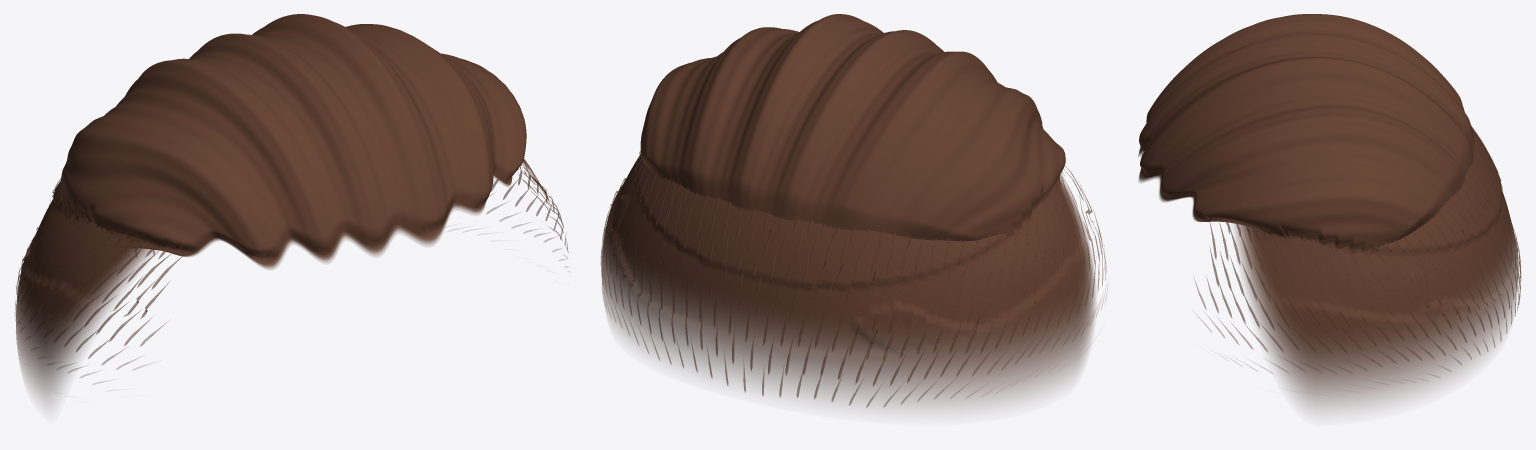
Rendered from Masculine-sidepart-headband259-hair.glb.
The picture shows the model from 3 angles, left to right: view 1: azimuth 30°, elevation 25°; view 2: azimuth 150°, elevation 25°; view 3: azimuth 270°, elevation 25°; orthographic projection. The views are drawn at different scales.
Parts seen in each view (by area): view 1: 226 hair / Hair259 / textured forward Crop, 226 hair / Hair258 / smooth side fade, 226 hair / Hair259 / directional fade marks214; view 2: 226 hair / Hair258 / smooth side fade, 226 hair / Hair259 / textured forward Crop, 226 hair / Hair259 / directional fade marks214; view 3: 226 hair / Hair259 / textured forward Crop, 226 hair / Hair258 / smooth side fade, 226 hair / Hair259 / directional fade marks214.
Boxes of the visible parts, x1,y1,x2,y2 form: 226 hair / Hair259 / textured forward Crop: [61, 14, 526, 269]; 226 hair / Hair258 / smooth side fade: [16, 159, 551, 405]; 226 hair / Hair259 / directional fade marks214: [15, 160, 568, 384]; 226 hair / Hair258 / smooth side fade: [601, 154, 1095, 409]; 226 hair / Hair259 / textured forward Crop: [640, 14, 1065, 241]; 226 hair / Hair259 / directional fade marks214: [601, 151, 1107, 407]; 226 hair / Hair259 / textured forward Crop: [1138, 14, 1474, 263]; 226 hair / Hair258 / smooth side fade: [1234, 128, 1518, 411]; 226 hair / Hair259 / directional fade marks214: [1194, 125, 1521, 380].
Bounding box in the file's own units: 0.9743 × 0.6424 × 0.7545.
